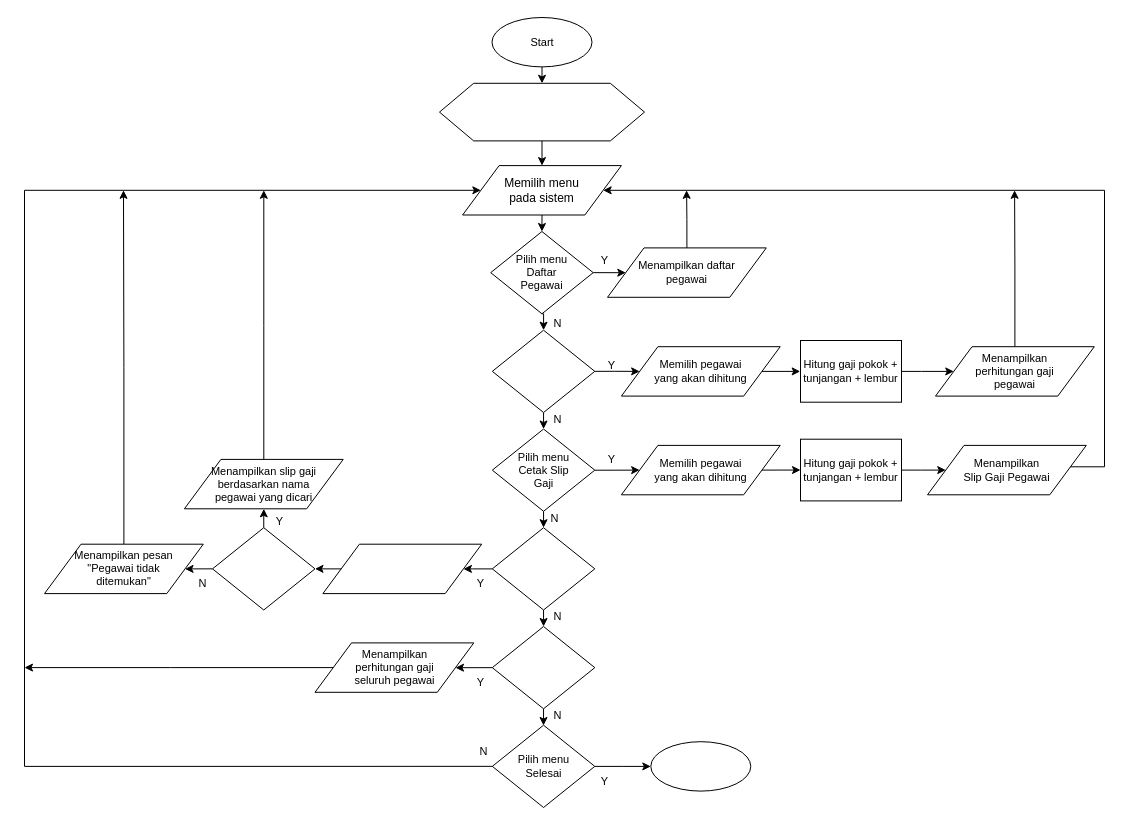
Some shapes in this 1130 by 825 pixel diagram are drawn without their labels. The box of each missing label's shape, as (x1, y1, x2, y2) in pixels:
Array pegawai, Array gaji_pokok Array tunjangan, Array lembur: (438, 82, 644, 141)
Finish: (650, 741, 751, 791)
Jika pegawai ditemukan: (212, 527, 315, 610)
Menginputkan nama lengkap pegawai yang akan di cari: (322, 543, 482, 594)
Pilih menu Pelaporan: (491, 626, 595, 709)
Pilih menu Pencarian Pegawai: (491, 527, 595, 610)
Pilih menu Penghitungan Gaji: (491, 329, 595, 412)
